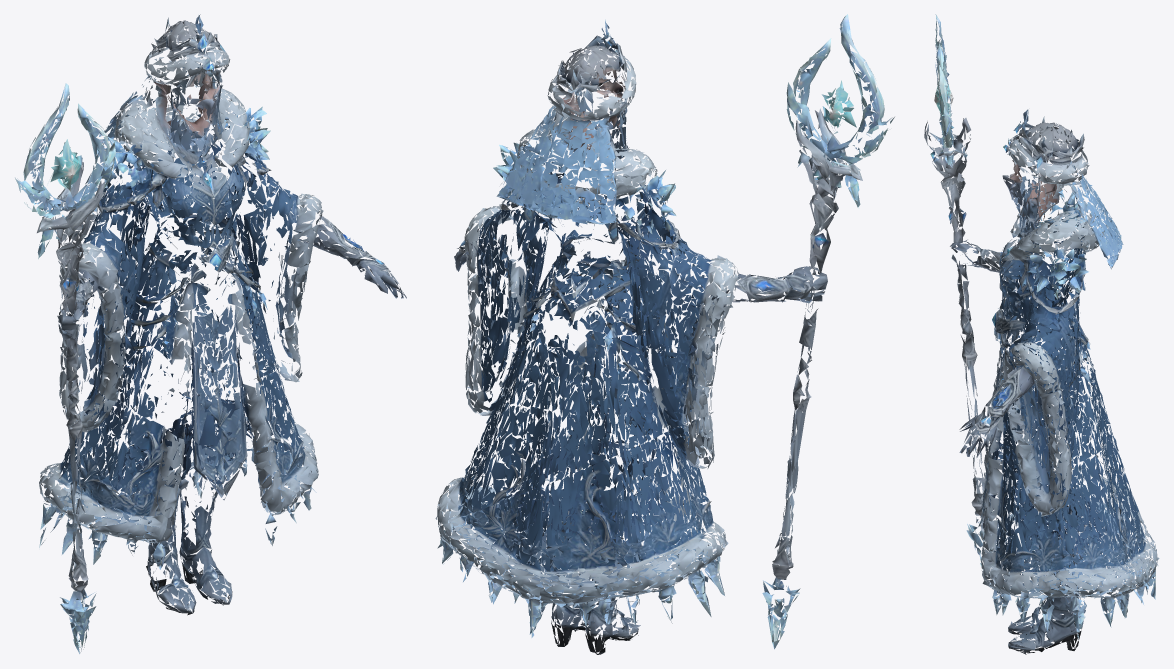
The model's file is frost_hero.glb.
3 views of the same model, side by side, from view 1: azimuth 30°, elevation 25°; view 2: azimuth 150°, elevation 25°; view 3: azimuth 270°, elevation 25° (orthographic). The views are drawn at different scales.
Parts seen in each view (by area): view 1: tripo_node_89e83990-1093-40a3-aaec-23734a169aa3; view 2: tripo_node_89e83990-1093-40a3-aaec-23734a169aa3; view 3: tripo_node_89e83990-1093-40a3-aaec-23734a169aa3.
Boxes of the visible parts, bbox=[...] form: tripo_node_89e83990-1093-40a3-aaec-23734a169aa3: bbox=[15, 14, 406, 653]; tripo_node_89e83990-1093-40a3-aaec-23734a169aa3: bbox=[435, 14, 894, 654]; tripo_node_89e83990-1093-40a3-aaec-23734a169aa3: bbox=[924, 14, 1159, 654].
Bounding box in the file's own units: 1.32 × 1.88 × 0.7331.
Materials: 1 (1 with a texture image).
